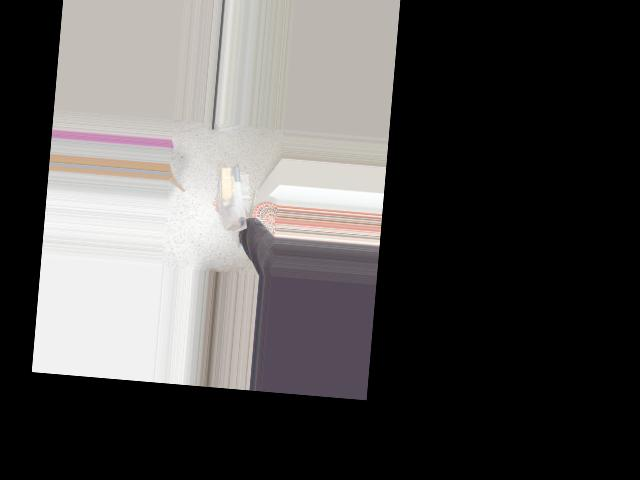cheese: (212, 164, 254, 235)
